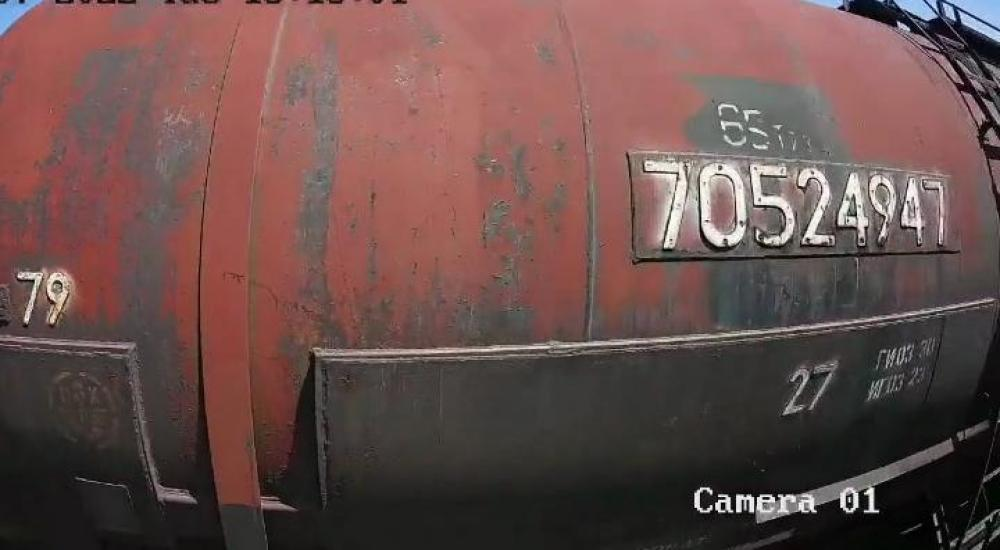Wagon-number: (639, 156, 952, 252)
